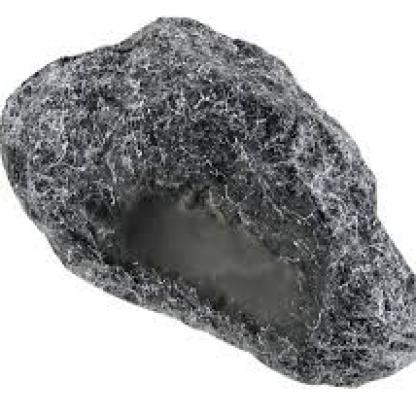Metamorphic_Marble: (0, 4, 414, 389)
